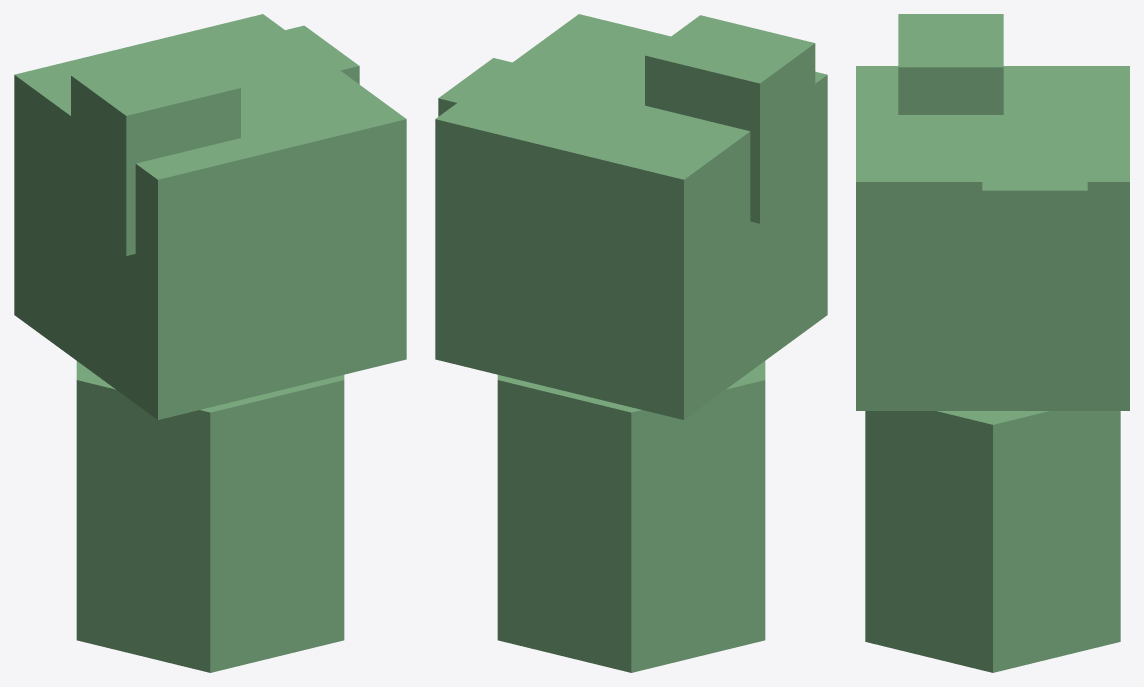
Rendered from potted_plant.glb.
3 renders of one model, left to right at view 1: azimuth 30°, elevation 25°; view 2: azimuth 150°, elevation 25°; view 3: azimuth 270°, elevation 25°, orthographic. The views are drawn at different scales.
Parts seen in each view (by area): view 1: potted_plant; view 2: potted_plant; view 3: potted_plant.
Part boxes in pixels (left/top/right/bottom): potted_plant: left=14, top=14, right=406, bottom=672; potted_plant: left=435, top=14, right=827, bottom=672; potted_plant: left=856, top=14, right=1129, bottom=672.
Bounding box in the file's own units: 0.29 × 0.56 × 0.26.
